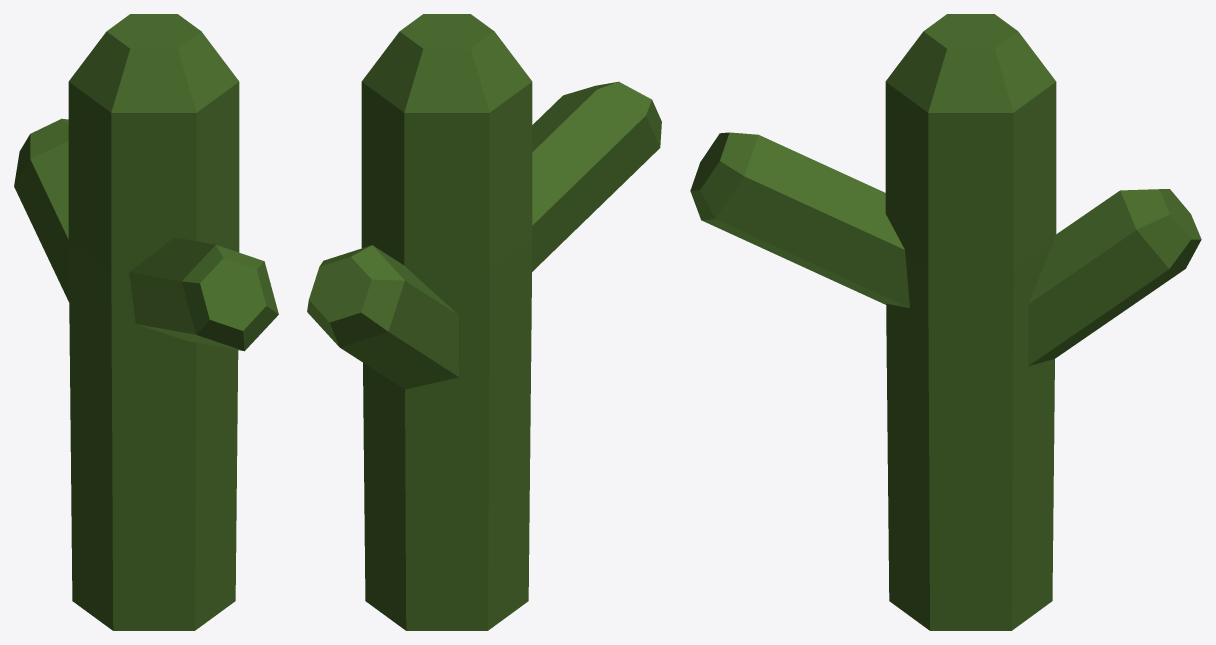
Rendered from cactus.fbx.
3 renders of one model, left to right at view 1: azimuth 30°, elevation 25°; view 2: azimuth 150°, elevation 25°; view 3: azimuth 270°, elevation 25°, orthographic.
Visible parts, largest first — view 1: Cylinder; view 2: Cylinder; view 3: Cylinder.
Boxes of the visible parts, x1,y1,x2,y2 form: Cylinder: (14, 14, 278, 630); Cylinder: (307, 14, 661, 630); Cylinder: (690, 14, 1201, 630).
Size of the model in its own units: 212 by 770 by 626.
